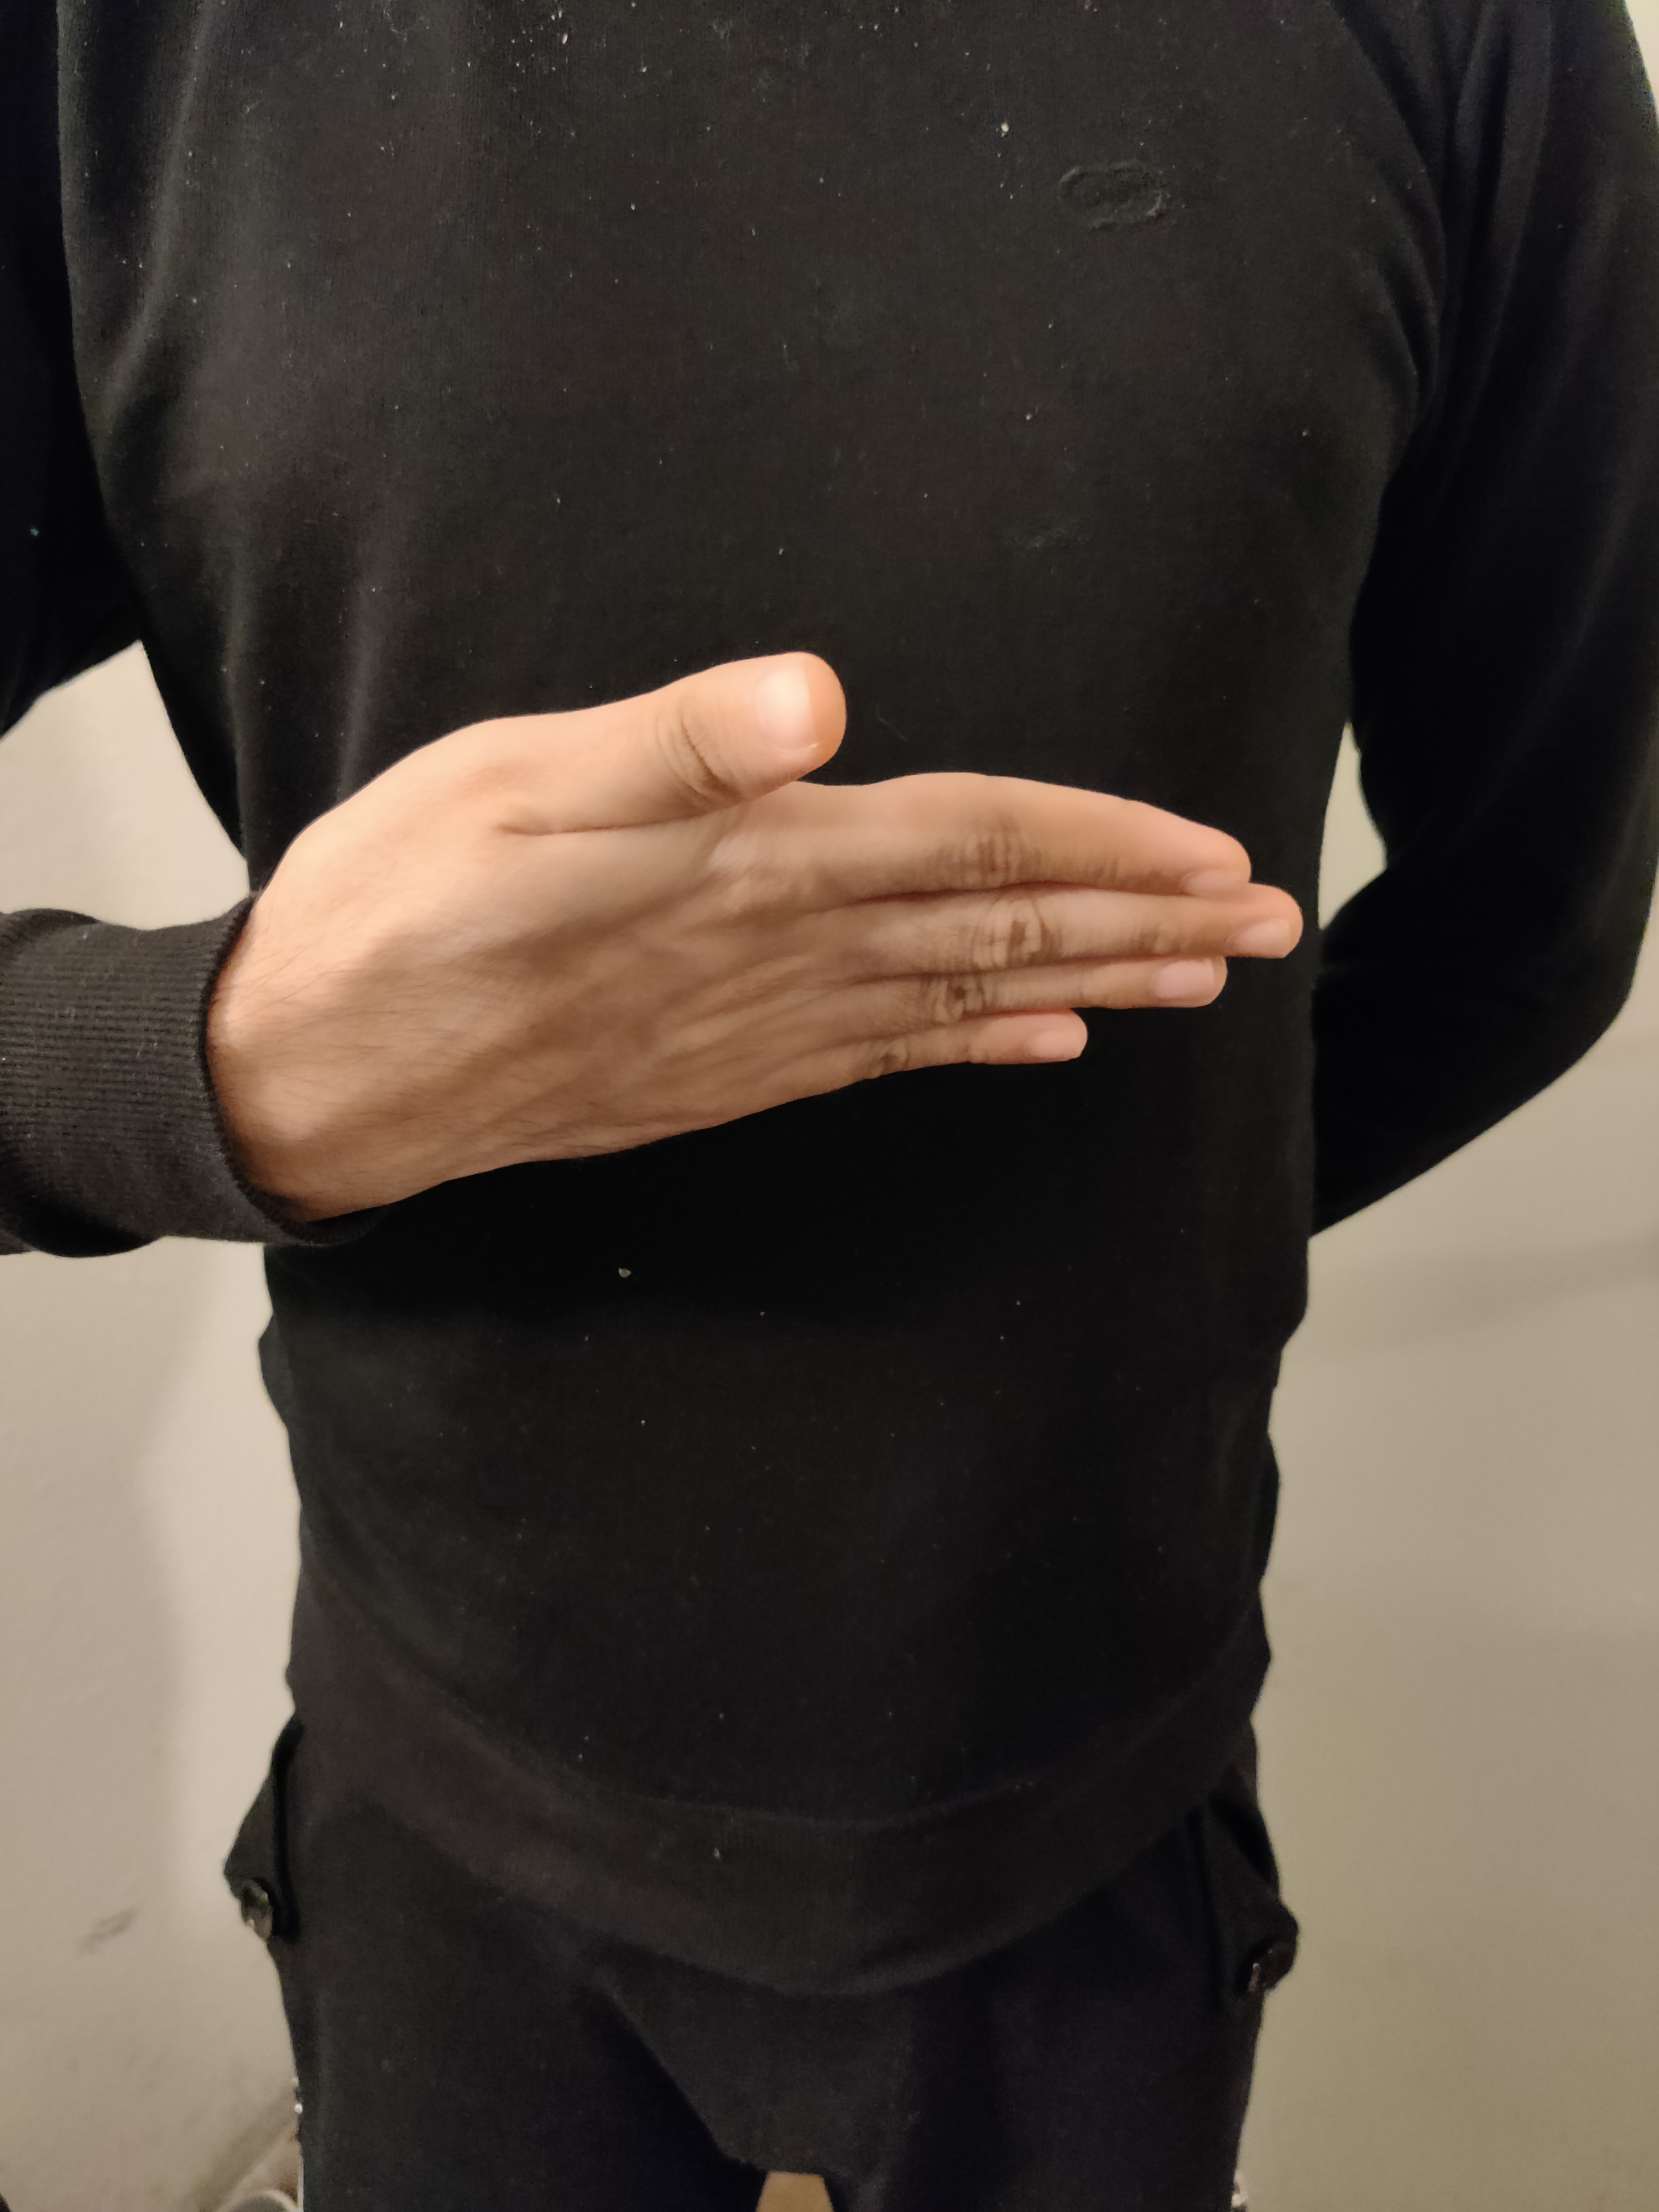left: (118, 543, 1410, 1329)
